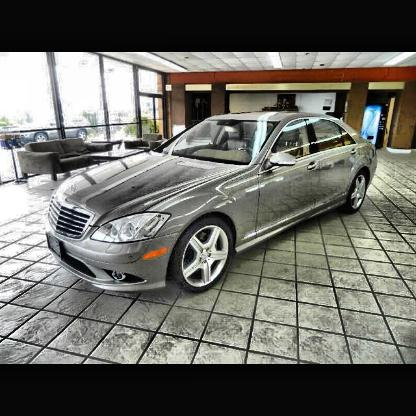Mercedes-Benz S-Class Sedan 2012: (45, 116, 379, 295)
